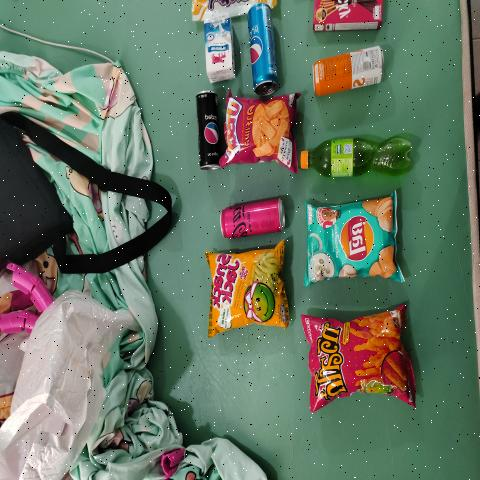coke_red: (224, 207, 284, 226)
fanta_green: (300, 138, 408, 167)
lay_blue: (313, 210, 390, 272)
party_red: (229, 103, 290, 164)
pepsi_black: (198, 93, 218, 163)
pepsi_blue: (246, 5, 273, 90)
singha_yellow: (307, 44, 384, 108)
snack_jack: (213, 253, 282, 331)
thai_denmark: (204, 26, 229, 74)
twisco: (307, 319, 411, 404)
